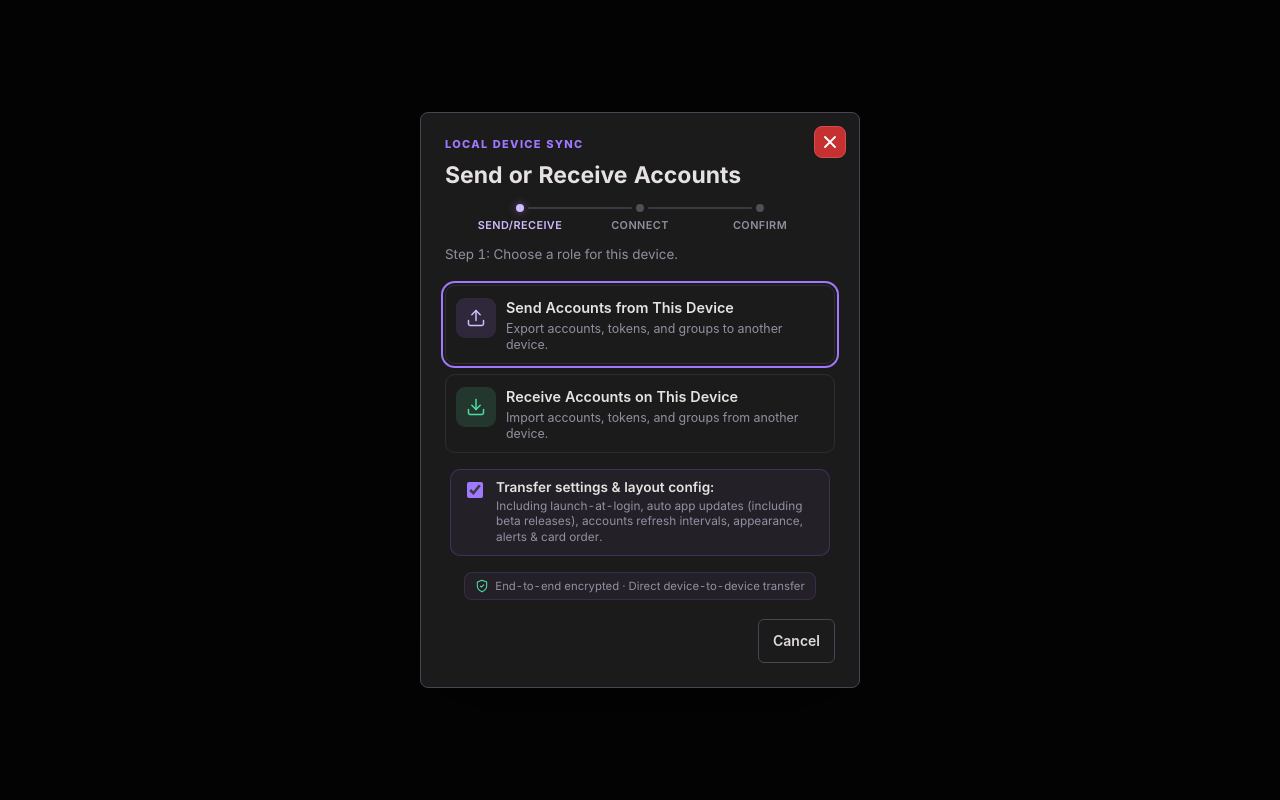
Test: choosing a role and a way to connect › goes back from the connection choices to the role choice
Click the button that starts with "Send Accounts from This Device": point(640, 324) 445,285 -> 835,364
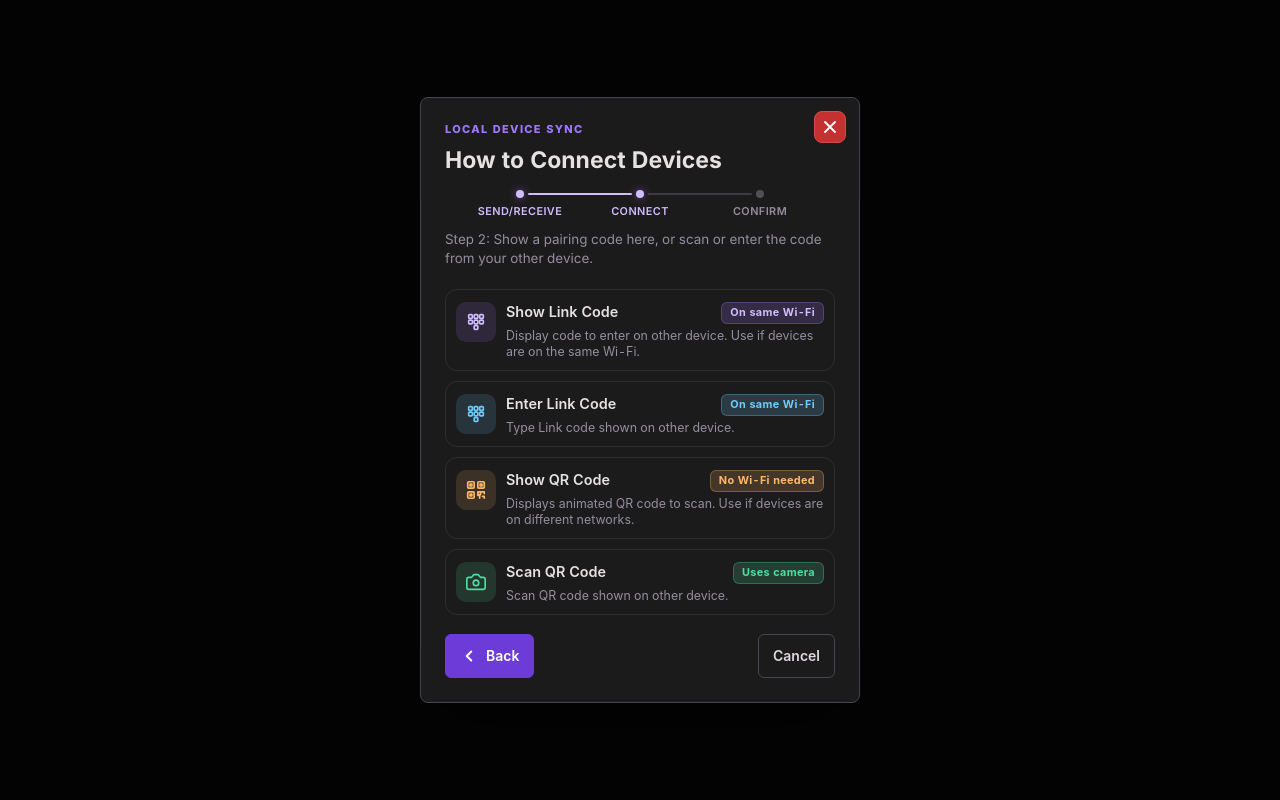
Click the button "Back": point(490, 656) 445,634 -> 534,678
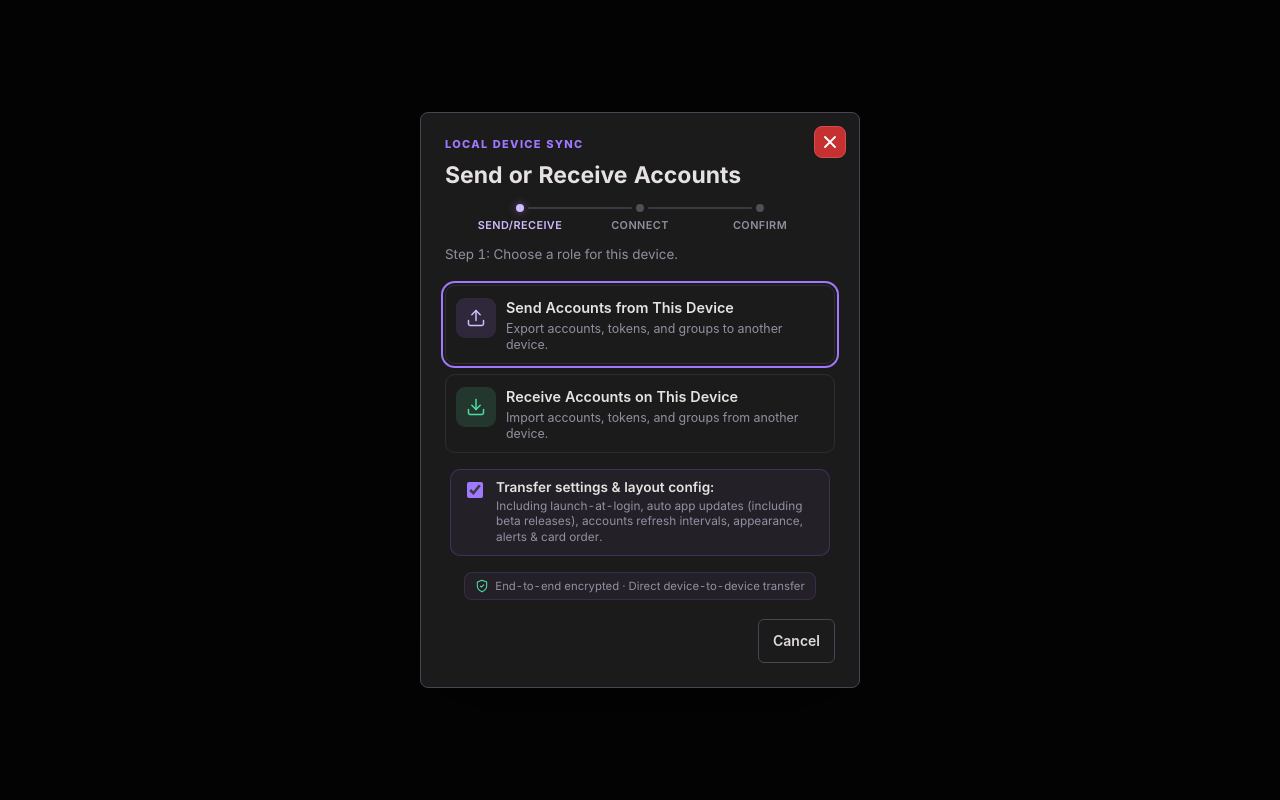
Check: the heading "Send or Receive Accounts" is shown, box 445,161 -> 741,189
